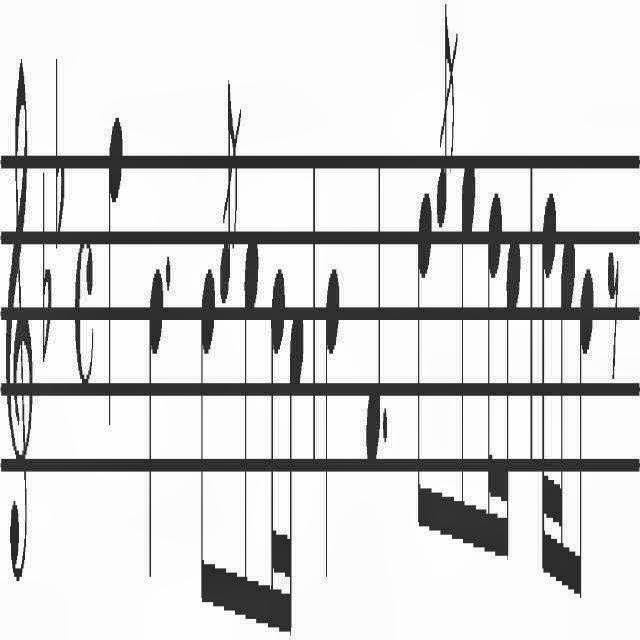Bass-clef: (1, 40, 35, 600)
Bemol: (38, 129, 54, 383), (51, 52, 67, 260)
Eighth-note: (413, 121, 435, 583), (458, 128, 478, 612), (194, 242, 218, 640), (241, 203, 261, 640), (578, 235, 594, 640)
Eighth-rest: (604, 208, 624, 440)
Quarter-note: (104, 86, 132, 467), (361, 122, 383, 530), (320, 242, 344, 608), (142, 218, 164, 606)
Sixteenth-note: (502, 202, 526, 598), (539, 157, 557, 638), (558, 203, 576, 629), (268, 225, 286, 640), (486, 172, 502, 596), (288, 268, 304, 640)
